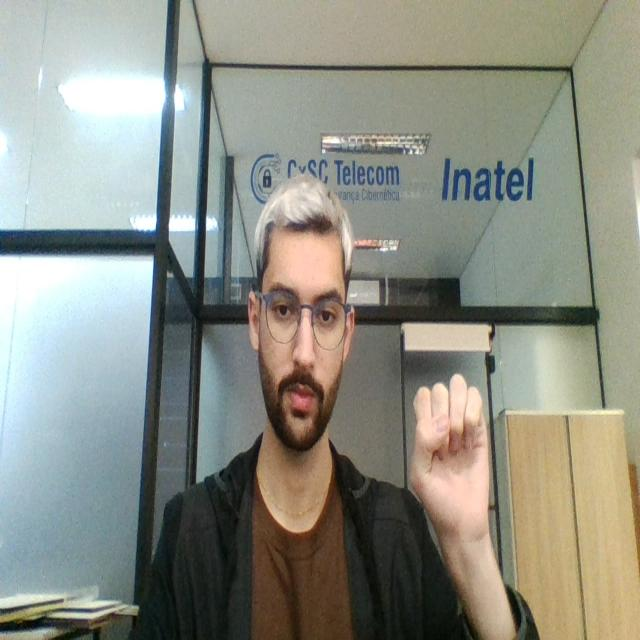S: (403, 370, 496, 542)
